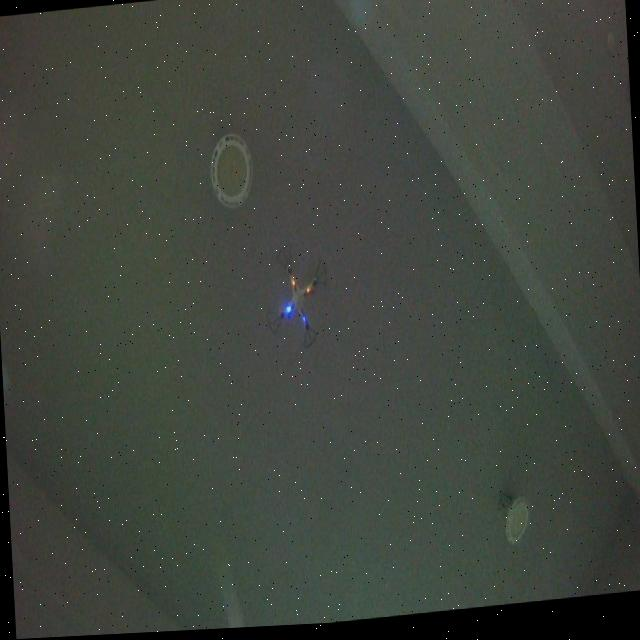drone: (263, 239, 333, 356)
